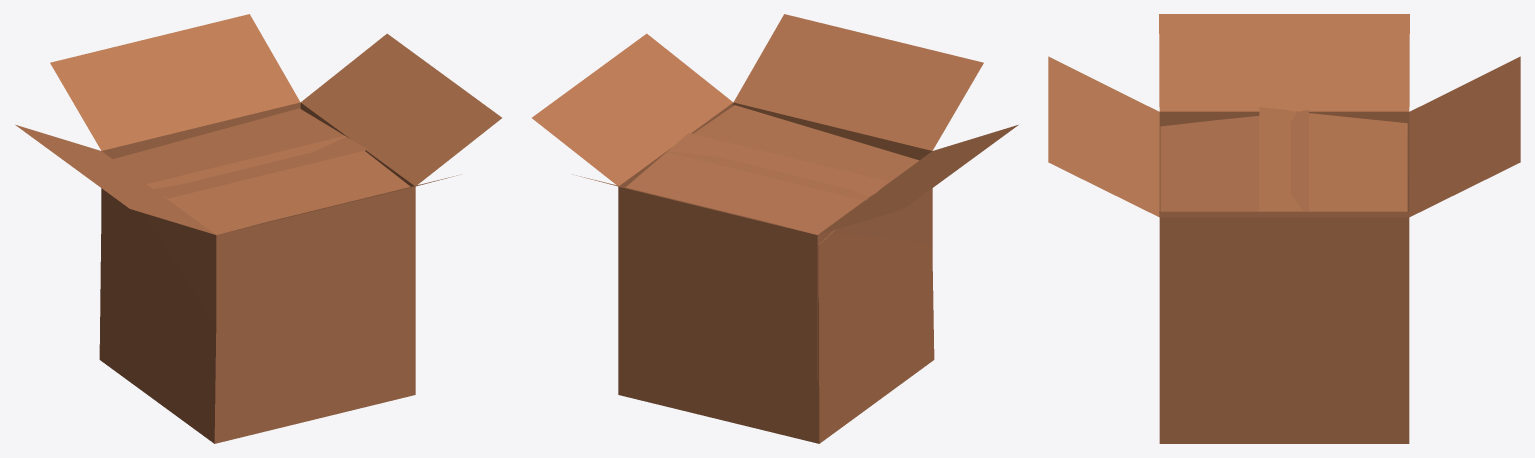
The picture shows the model from 3 angles, left to right: view 1: azimuth 30°, elevation 25°; view 2: azimuth 150°, elevation 25°; view 3: azimuth 270°, elevation 25°; orthographic projection. The views are drawn at different scales.
Parts seen in each view (by area): view 1: OpenBox, ClosedBox; view 2: OpenBox, ClosedBox; view 3: OpenBox, ClosedBox.
Part boxes in pixels (bbox=[...]): OpenBox: bbox=[15, 14, 501, 443]; ClosedBox: bbox=[99, 108, 410, 443]; OpenBox: bbox=[532, 14, 1018, 443]; ClosedBox: bbox=[626, 105, 934, 443]; OpenBox: bbox=[1048, 14, 1520, 443]; ClosedBox: bbox=[1160, 107, 1408, 211].
Size of the model in its own units: 3.74 by 2.49 by 3.78.
